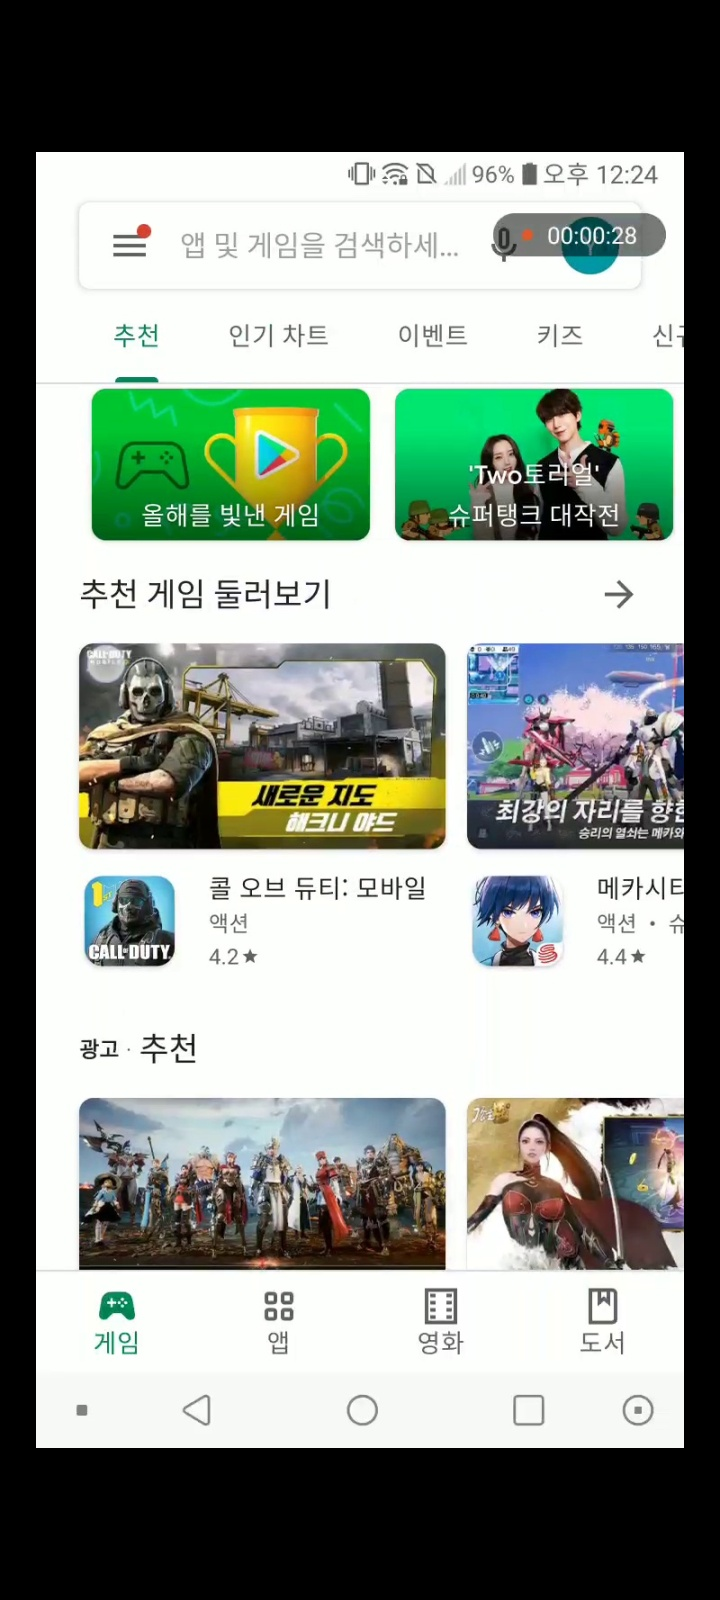Cursor: (84, 642, 128, 687)
